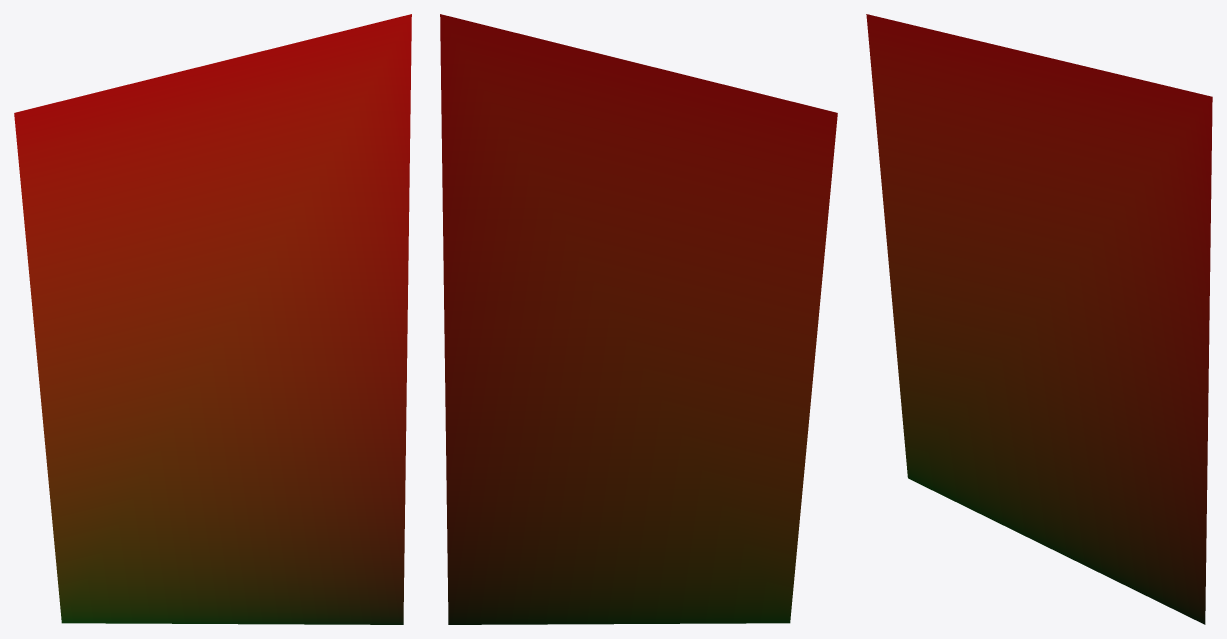
The model's file is Var2_LOD3.fbx.
3 renders of one model, left to right at view 1: azimuth 30°, elevation 25°; view 2: azimuth 150°, elevation 25°; view 3: azimuth 330°, elevation 25°, orthographic. The views are drawn at different scales.
Parts seen in each view (by area): view 1: _7ba6_Var2_LOD3; view 2: _7ba6_Var2_LOD3; view 3: _7ba6_Var2_LOD3.
Part boxes in pixels (x1=…): _7ba6_Var2_LOD3: x1=14, y1=14, x2=411, y2=624; _7ba6_Var2_LOD3: x1=440, y1=14, x2=837, y2=624; _7ba6_Var2_LOD3: x1=866, y1=14, x2=1212, y2=624.
Size of the model in its own units: 23.24 by 34 by 5.48e-06.
